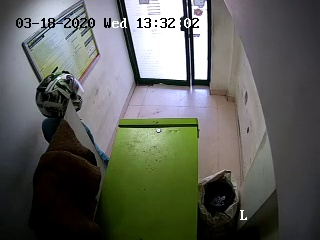helmet: (27, 68, 89, 118)
